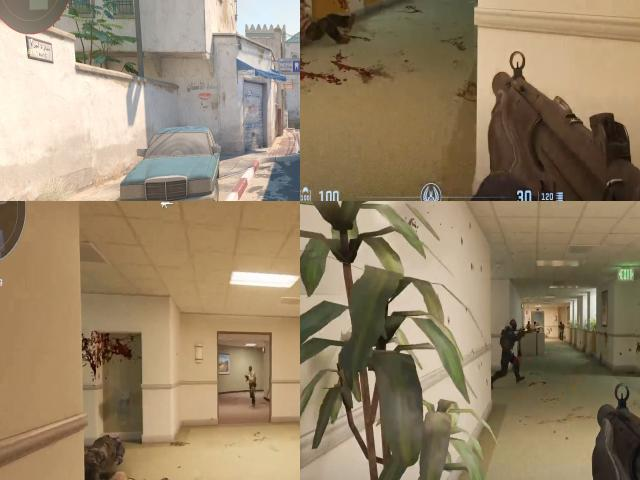CT: (498, 313, 521, 366)
CT-Head: (506, 318, 516, 334)
Dead: (75, 418, 138, 480), (300, 0, 358, 56)
T: (242, 362, 262, 392)
T-Head: (245, 364, 255, 374)
